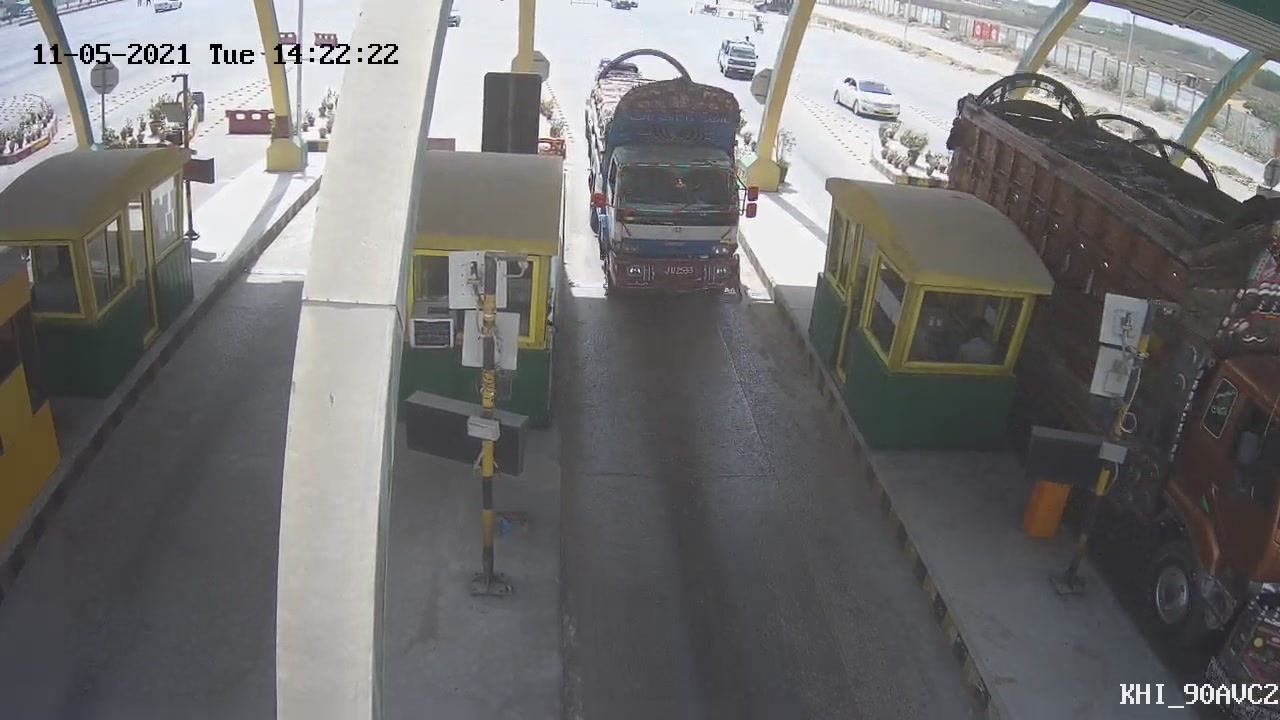F5: (583, 47, 773, 327)
